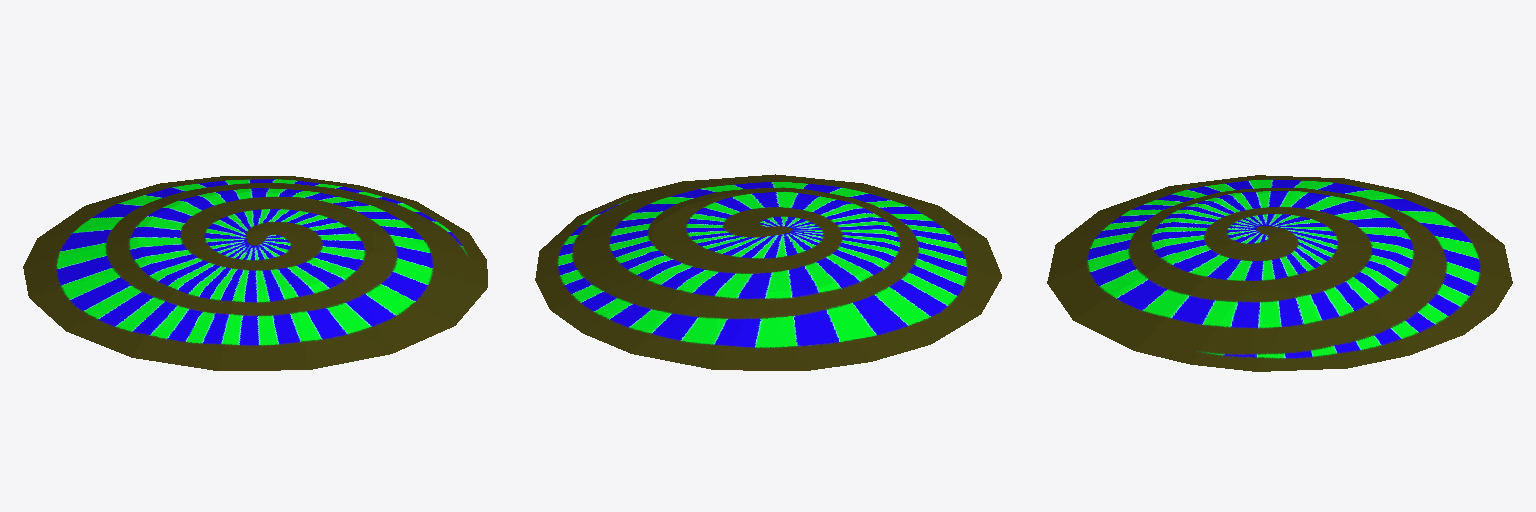
3 renders of one model, left to right at view 1: azimuth 30°, elevation 25°; view 2: azimuth 150°, elevation 25°; view 3: azimuth 270°, elevation 25°, orthographic.
Visible parts, largest first — view 1: Sphere; view 2: Sphere; view 3: Sphere.
Part boxes in pixels (x1,y1,x2,y2): Sphere: (23, 176, 487, 370); Sphere: (535, 174, 1001, 370); Sphere: (1047, 175, 1512, 371).
Size of the model in its own units: 0.7639 by 0.0885 by 0.7639.
Materials: 1 (1 with a texture image).